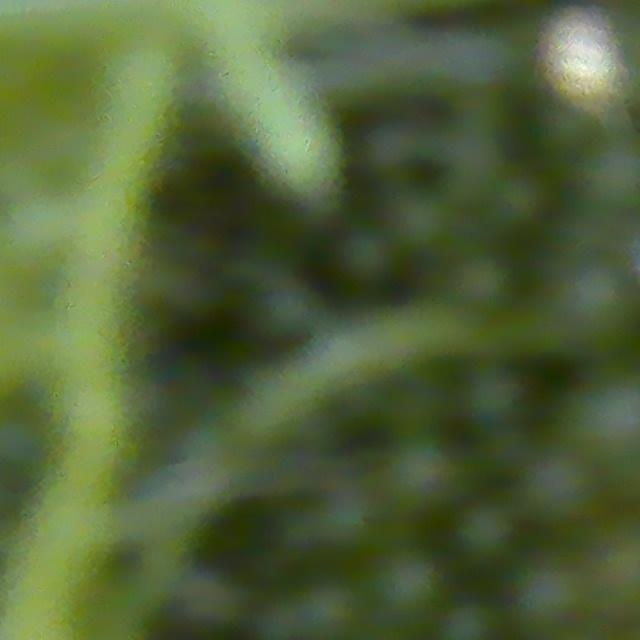SeaGrape: (541, 257, 640, 358), (563, 364, 640, 472), (516, 447, 602, 529), (577, 522, 640, 632), (388, 435, 468, 521), (362, 544, 440, 625), (511, 555, 590, 632), (302, 482, 380, 555), (578, 132, 640, 215), (291, 578, 364, 640), (453, 498, 518, 567), (448, 251, 513, 315), (461, 363, 527, 425)
